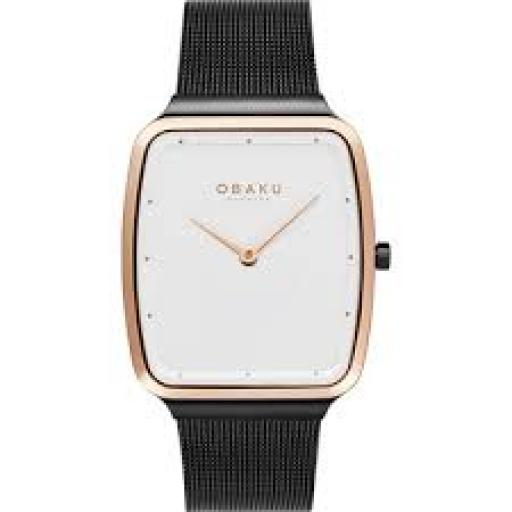KolSaati: (91, 0, 399, 512)
